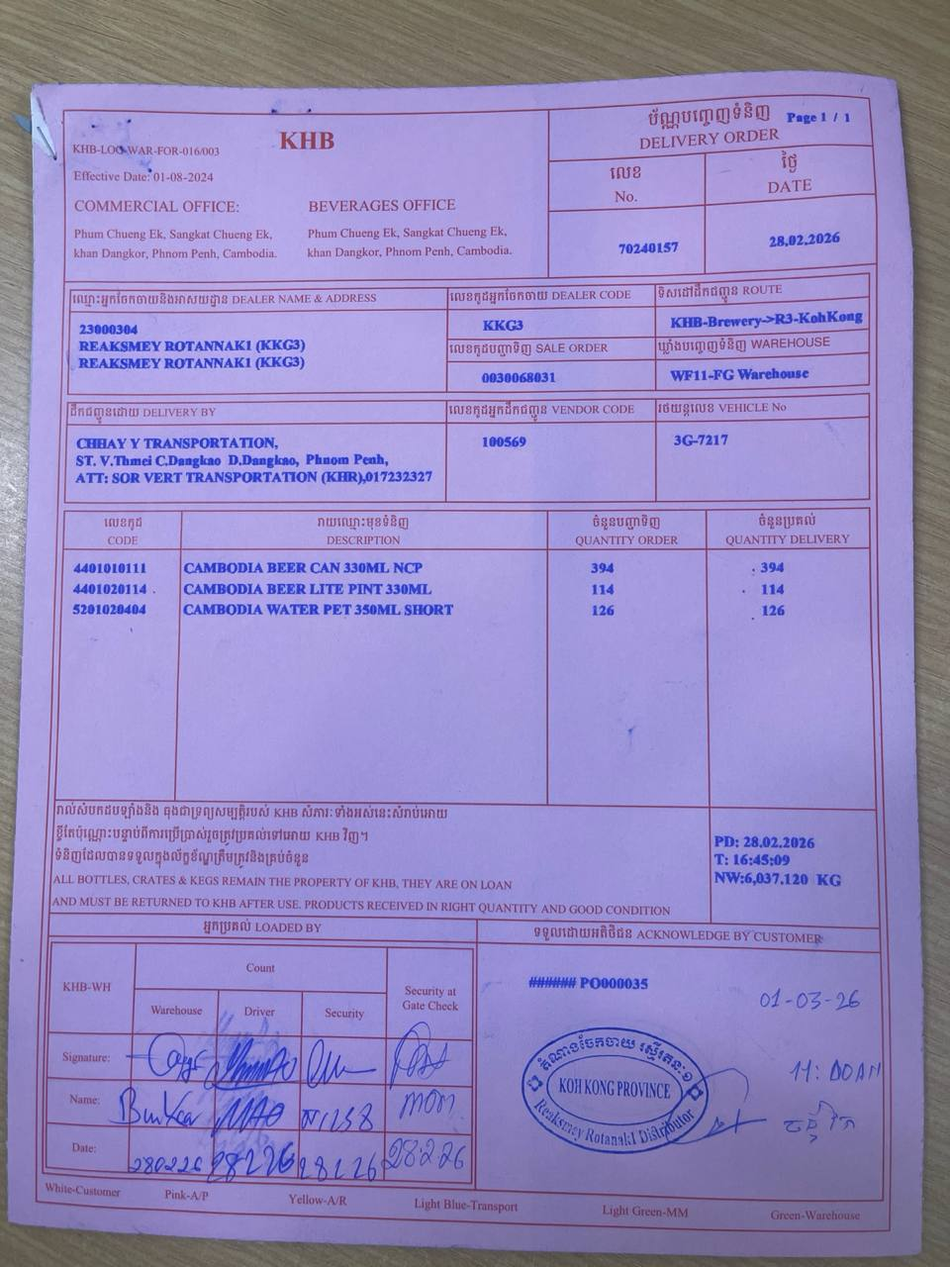Dealer Code: (443, 275, 656, 334)
Invoice Date: (707, 197, 877, 272)
Invoice No: (545, 206, 707, 277)
Sale Order: (443, 333, 656, 398)
Vehicle Code: (654, 397, 877, 507)
Vender Code: (440, 396, 656, 507)
